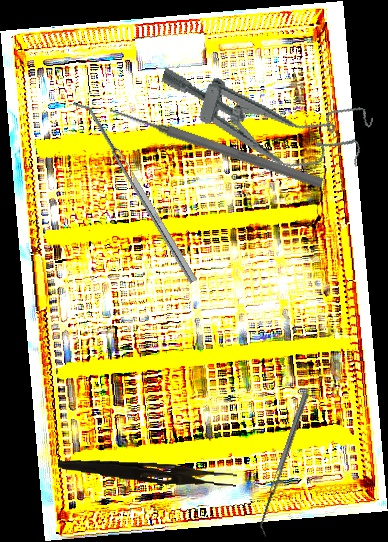Dressing Forceps: (57, 457, 238, 488)
Pusher: (107, 102, 325, 191)
Spatula Surgical: (72, 95, 198, 288), (255, 392, 314, 537)
Speculum: (148, 52, 376, 186)
